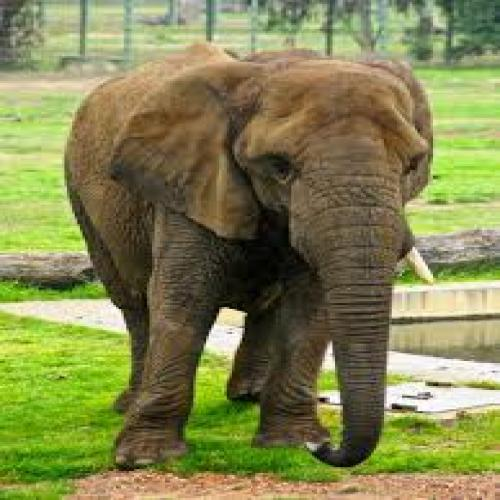asian_elephant-endangered: (67, 40, 437, 461)
